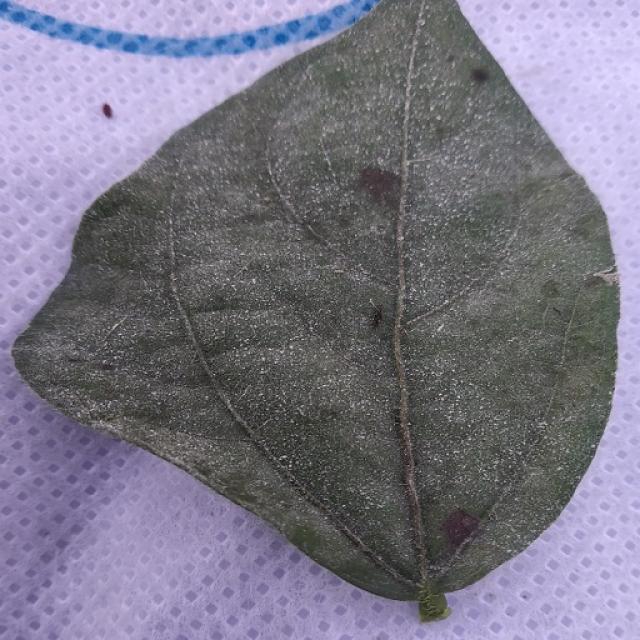Blackgram: (14, 0, 618, 614)
Powdery_Mildew: (227, 289, 426, 506), (405, 263, 572, 473), (196, 282, 318, 434), (74, 418, 243, 509), (88, 286, 224, 378), (489, 163, 601, 268), (173, 251, 332, 308), (426, 174, 525, 264), (298, 58, 387, 131), (54, 308, 136, 368), (95, 213, 169, 276), (235, 204, 290, 229), (90, 191, 130, 224)
